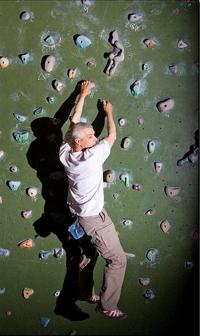person: (59, 80, 128, 321)
